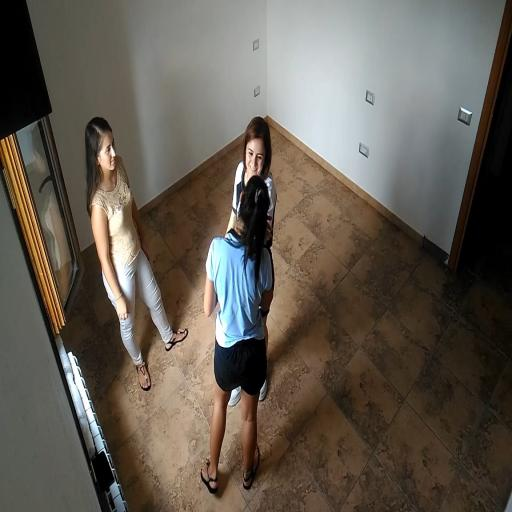nao-violencia: (198, 105, 281, 499)
